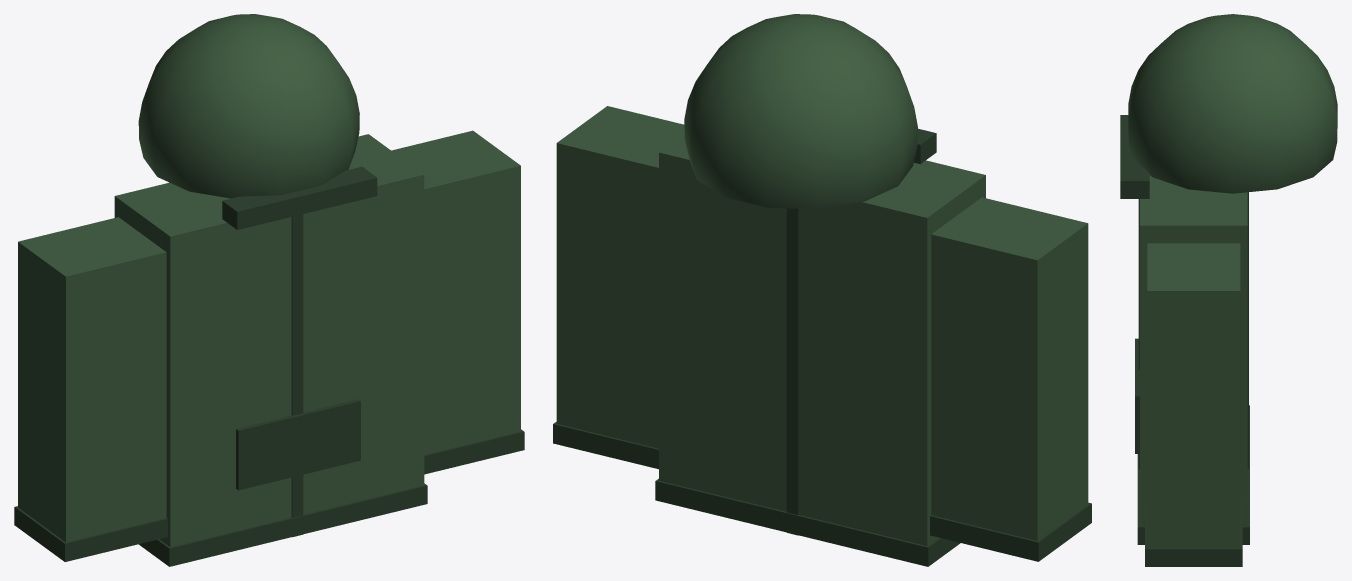
The model's file is field_jacket.glb.
3 views of the same model, side by side, from view 1: azimuth 30°, elevation 25°; view 2: azimuth 150°, elevation 25°; view 3: azimuth 270°, elevation 25° (orthographic). The views are drawn at different scales.
Bounding box in the file's own units: 1.05 × 1.04 × 0.4439.
